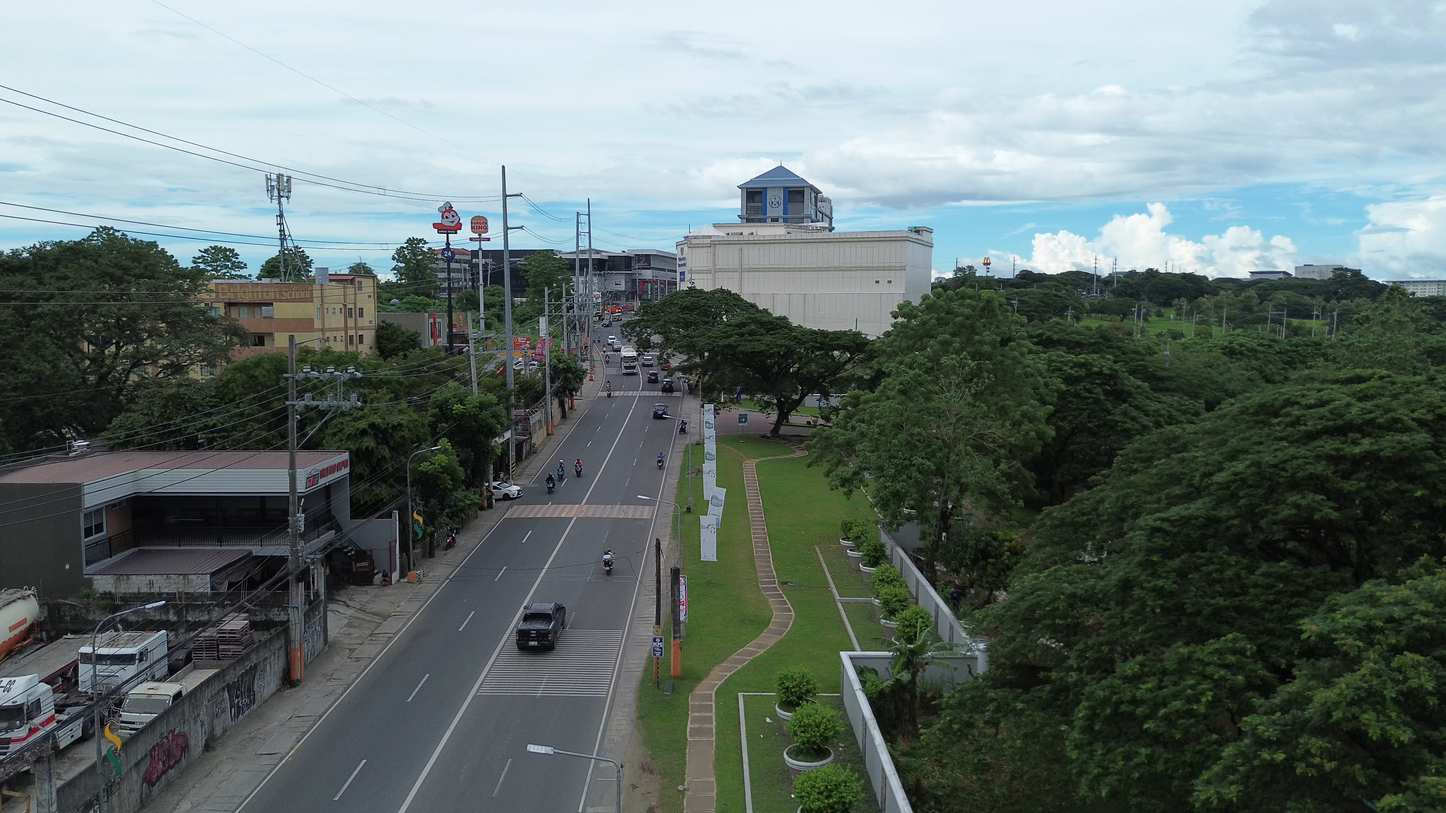car: (489, 480, 522, 500), (652, 403, 669, 419), (513, 358, 525, 370), (647, 370, 659, 382), (528, 361, 539, 372), (660, 361, 672, 370)
motorcycle: (444, 529, 456, 550), (603, 553, 613, 575), (546, 477, 555, 494), (656, 454, 665, 469), (678, 420, 687, 434), (575, 463, 582, 478)
truck: (119, 666, 218, 737)
vehicle: (0, 675, 90, 757), (78, 630, 168, 693), (0, 588, 39, 659), (516, 602, 566, 649), (621, 346, 638, 375), (602, 549, 614, 575), (660, 377, 675, 393), (545, 474, 555, 494), (641, 355, 654, 367), (656, 453, 665, 469), (575, 459, 582, 478), (659, 360, 672, 370), (621, 303, 635, 312)
